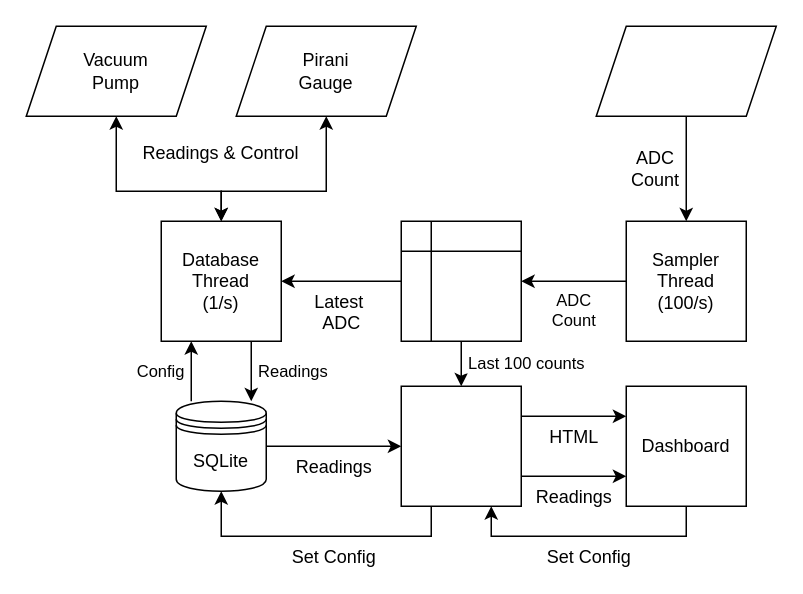
The diagram is 803 pixels wide and 594 high, and some of its shapes have lost their labels. The centre of each missing label's shape, as x and y in pixels:
"ADC Buffer" belongs at point (460, 280).
"FastAPI" belongs at point (460, 445).
"Pressure Gauge" belongs at point (685, 70).
